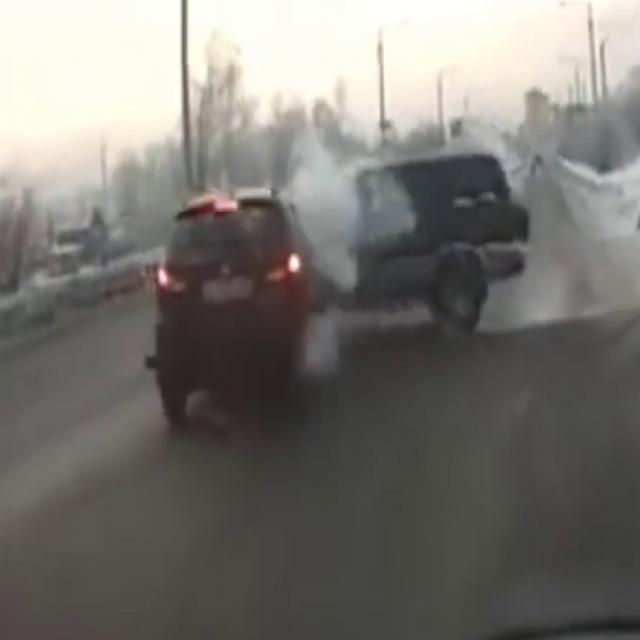accident: (150, 158, 528, 387)
